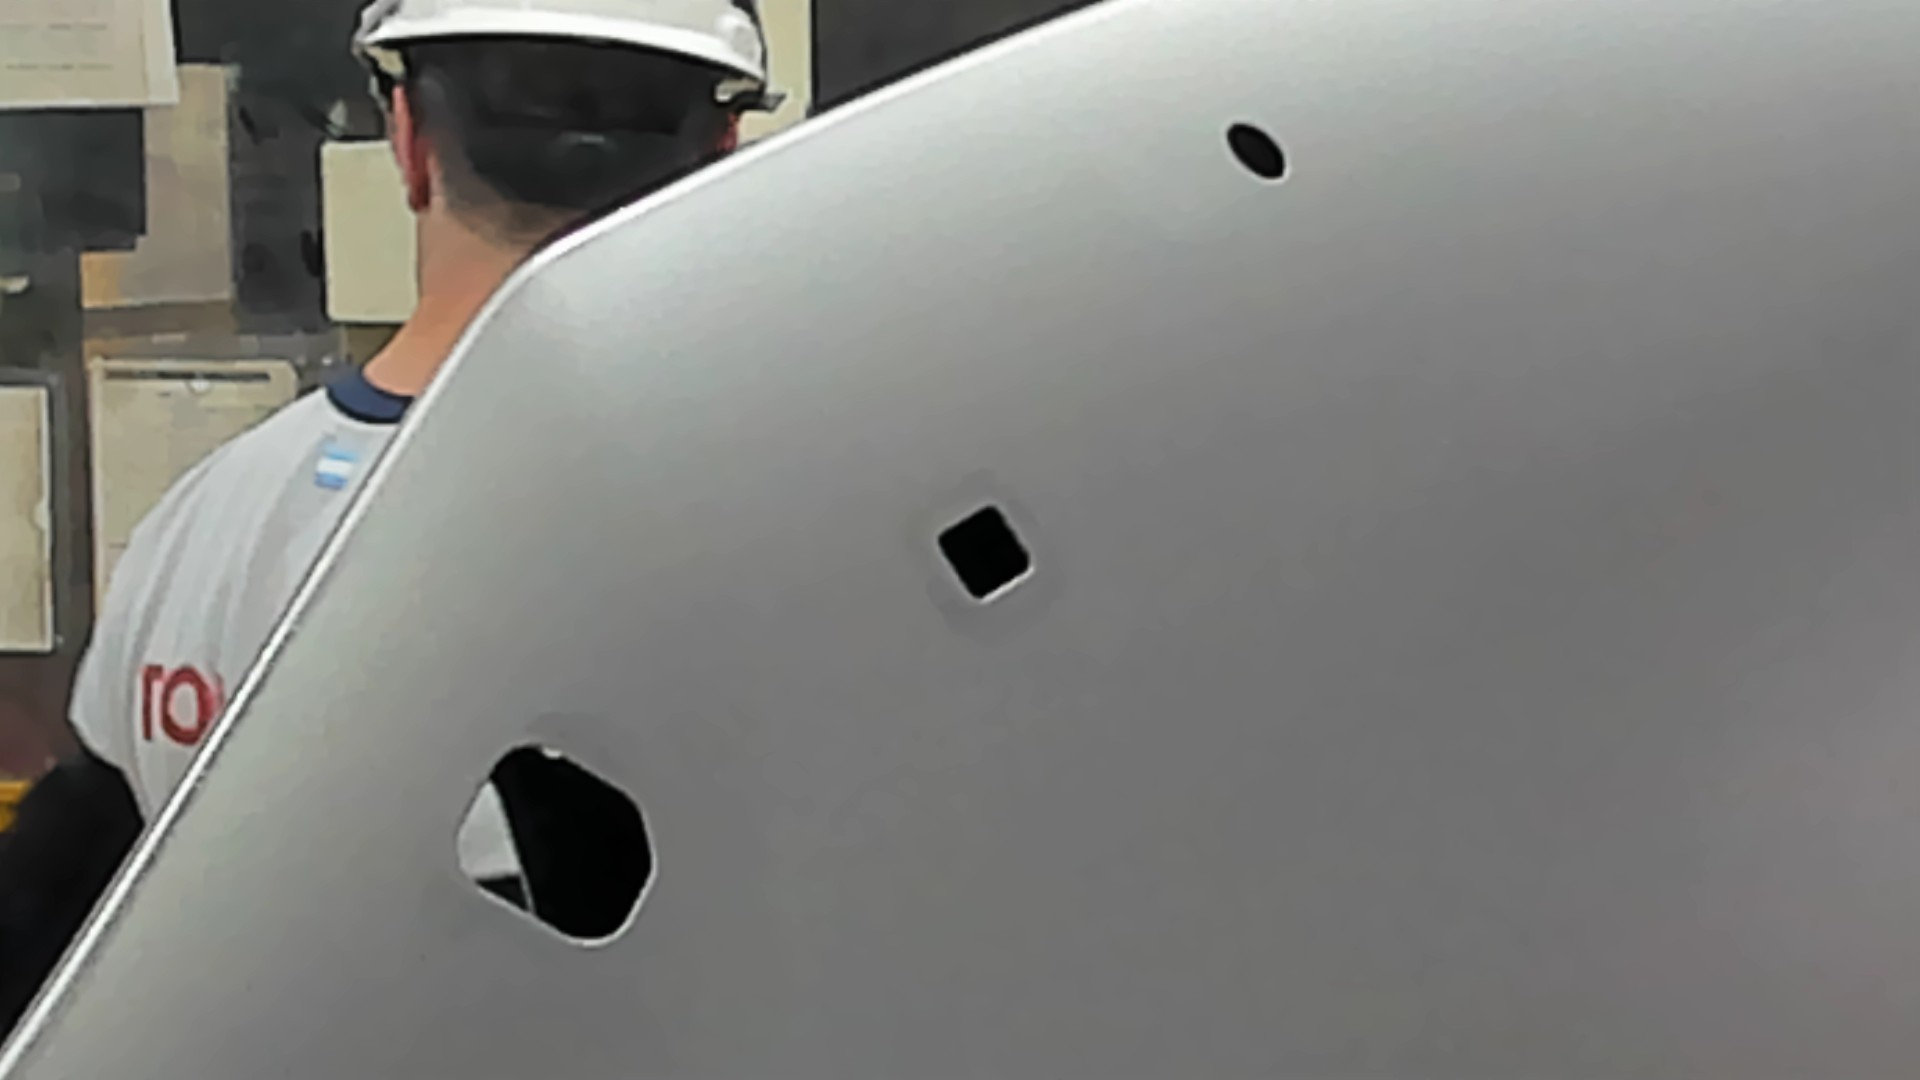chico: (1211, 109, 1304, 199)
grande: (433, 728, 683, 963)
mediano: (906, 495, 1050, 617)
